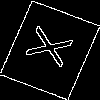X: (25, 25, 83, 72)
